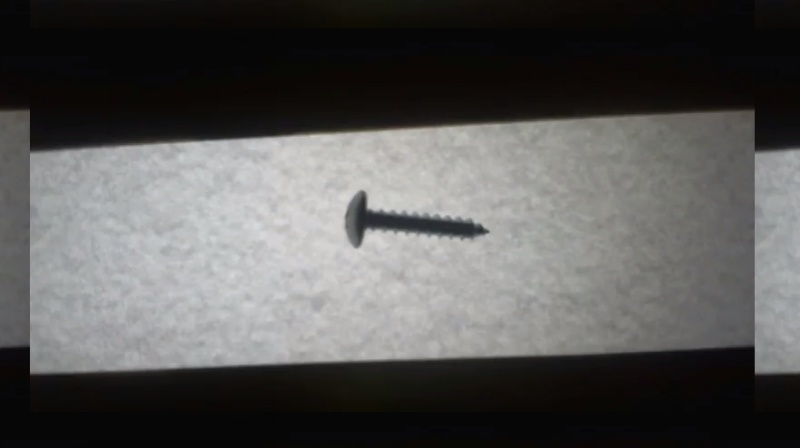S003: (340, 187, 492, 254)
